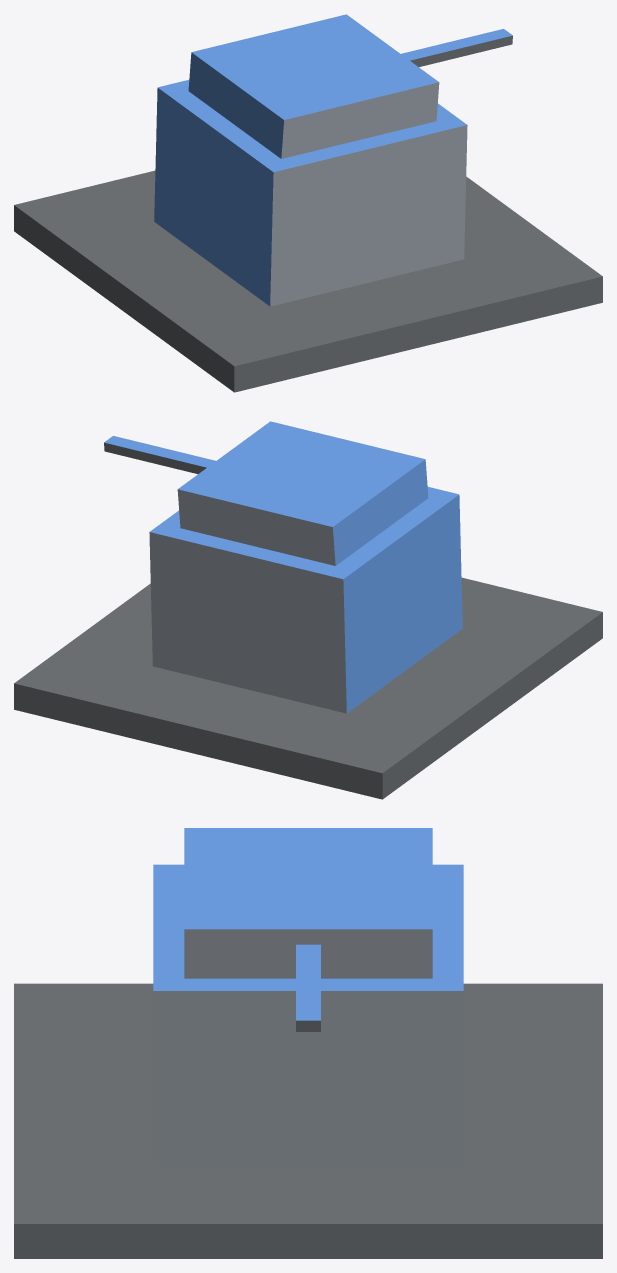
File: veyran_defence_tower_heavily_damaged.glb
3 views of the same model, one above another, from view 1: azimuth 30°, elevation 25°; view 2: azimuth 150°, elevation 25°; view 3: azimuth 270°, elevation 25° (orthographic). The views are drawn at different scales.
Parts seen in each view (by area): view 1: hull, turret, barrel; view 2: hull, turret, barrel; view 3: hull, turret, barrel.
Boxes of the visible parts, bbox=[...] form: hull: bbox=[14, 80, 602, 392]; turret: bbox=[188, 14, 439, 158]; barrel: bbox=[401, 29, 512, 66]; hull: bbox=[14, 487, 602, 799]; turret: bbox=[177, 421, 428, 565]; barrel: bbox=[104, 436, 215, 473]; hull: bbox=[14, 864, 602, 1258]; turret: bbox=[184, 828, 432, 978]; barrel: bbox=[296, 944, 320, 1031].
Bounding box in the file's own units: 3.82 × 1.88 × 3.8.
